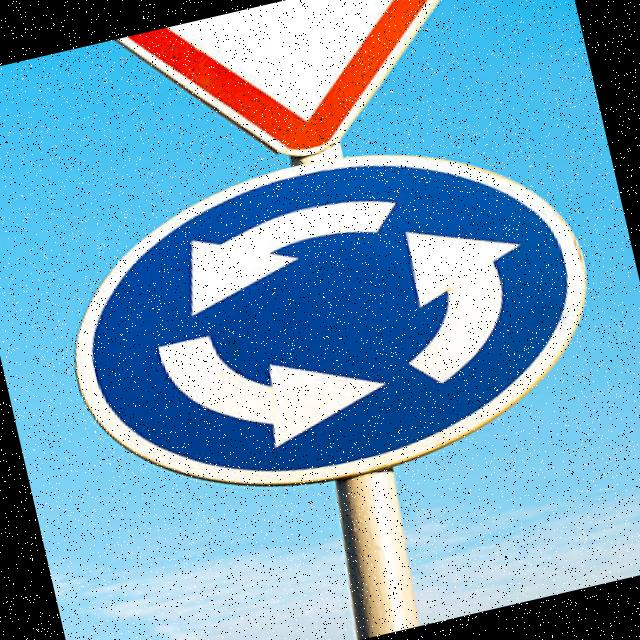round_about: (45, 105, 618, 536)
